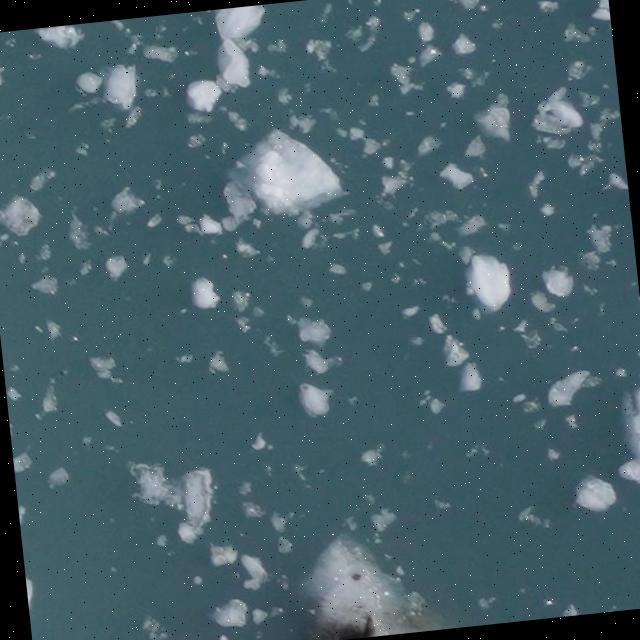seal: (358, 614, 381, 637)
